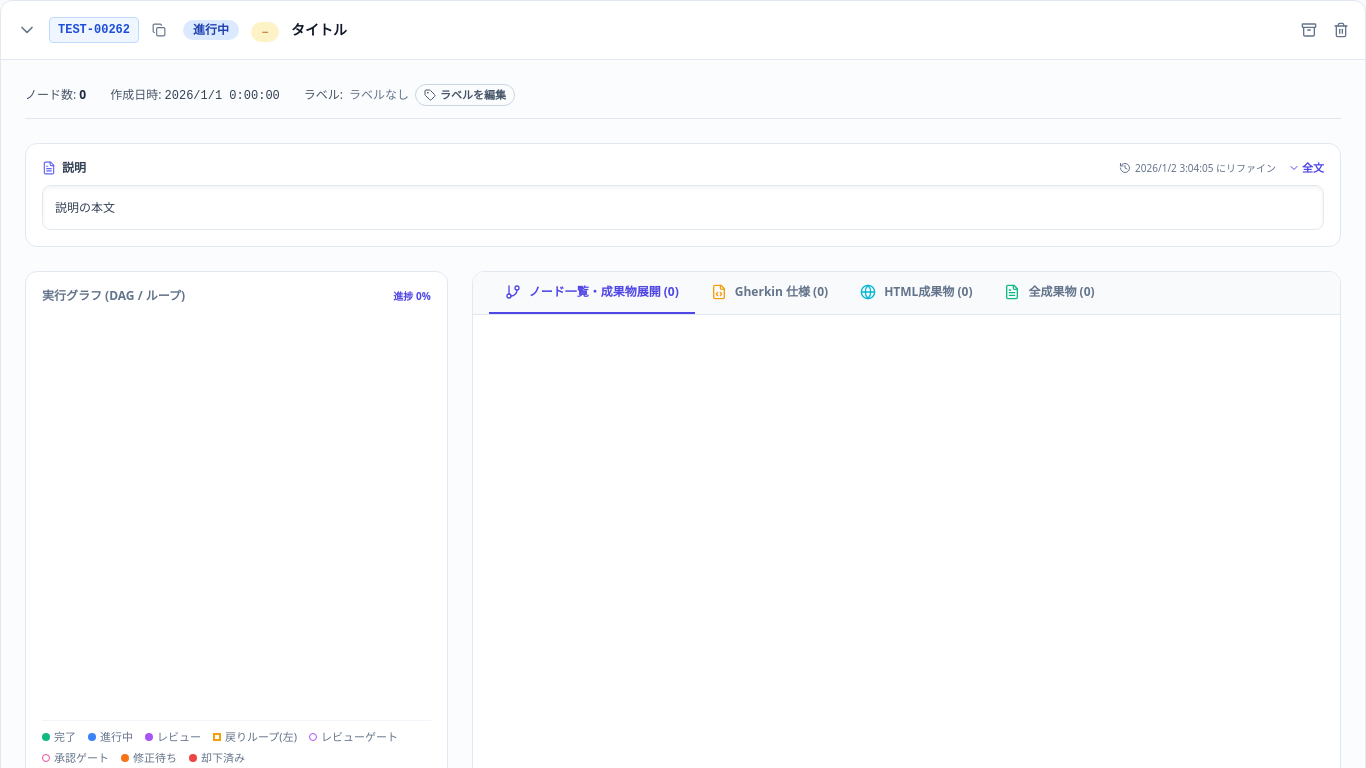
Test case: TicketItem description card accessibility (ja) › keeps the button label fixed and changes only aria-expanded when toggled
What coordinates should you click on to do the following:
click the button "全文"
I would click on:
 (1306, 168)
Its box is left=1288, top=160, right=1324, bottom=176.
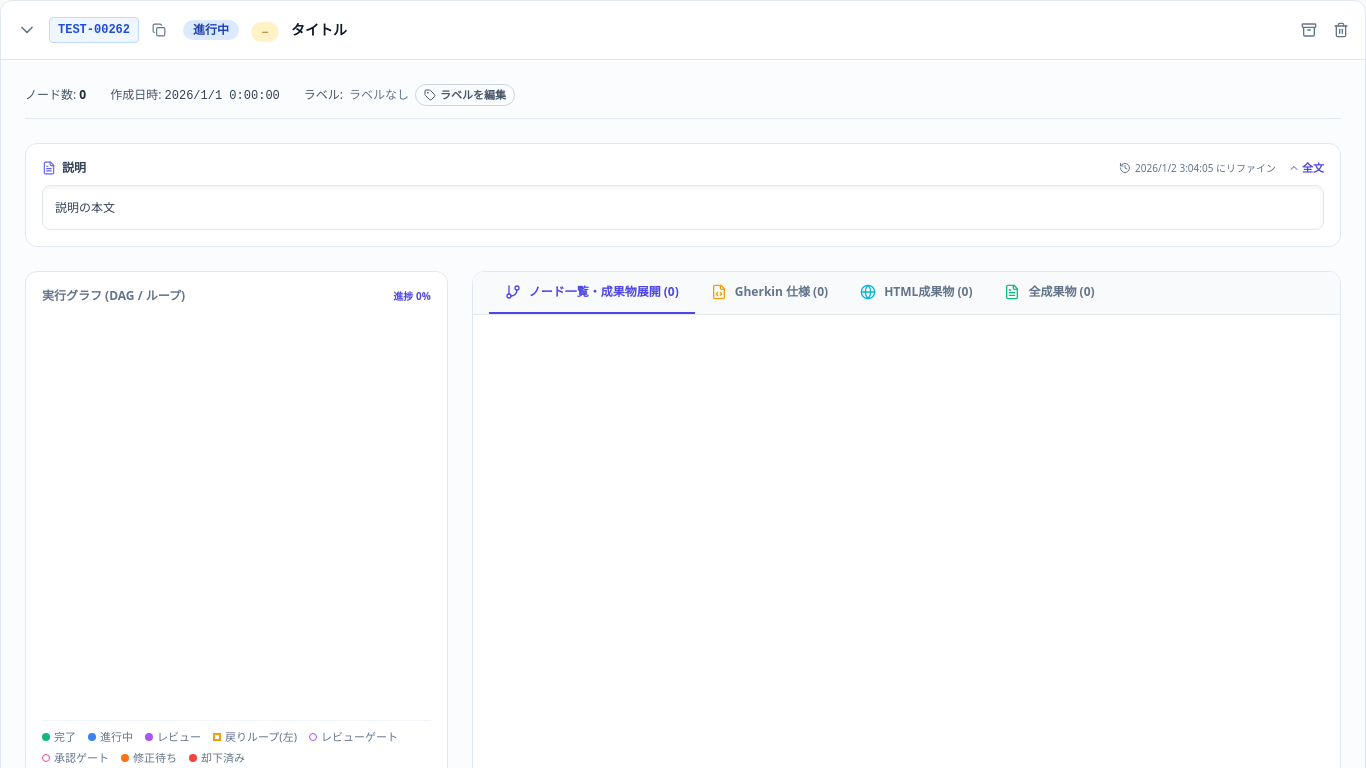
Expected: the button "全文" is expanded
What coordinates should you click on to do the following:
click the button "全文"
I would click on:
 (1306, 168)
Its box is left=1288, top=160, right=1324, bottom=176.
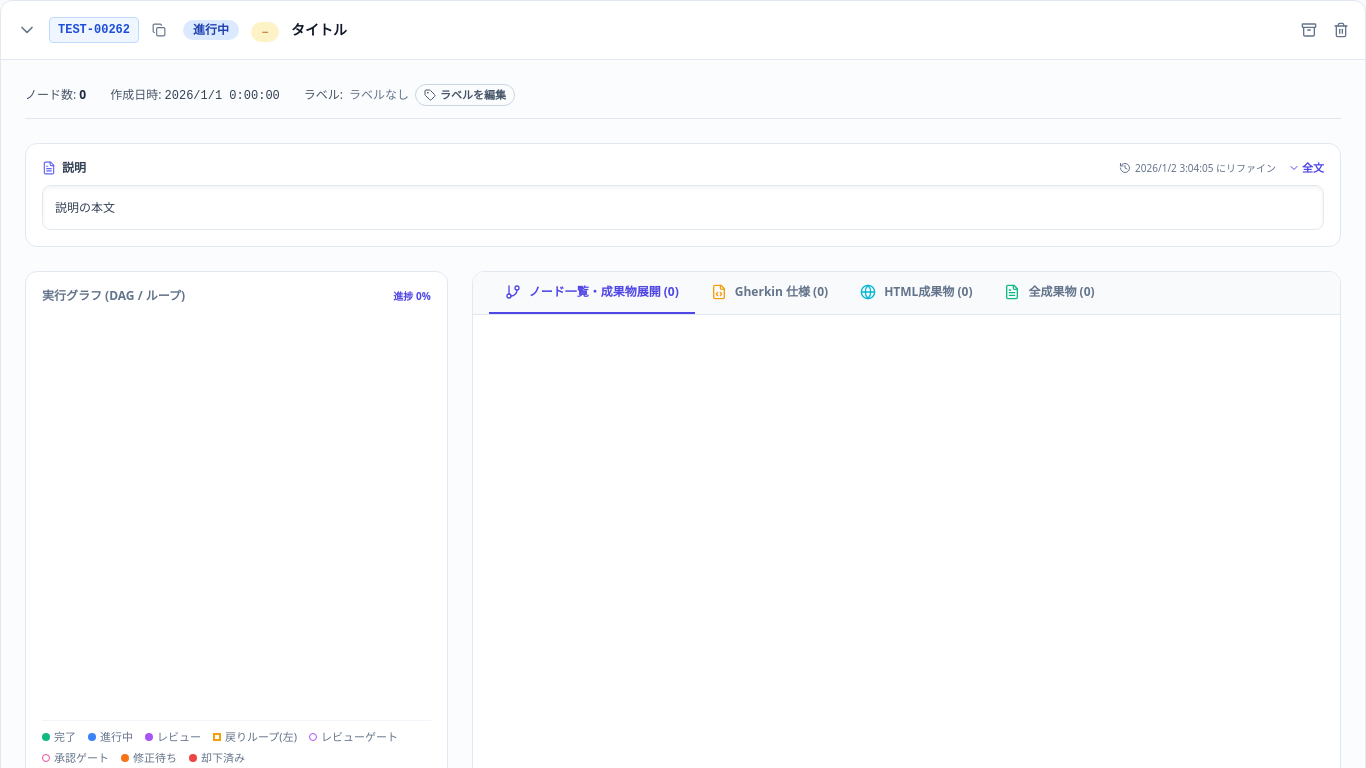
Expected: the button "全文" is collapsed, left=1288, top=160, right=1324, bottom=176
